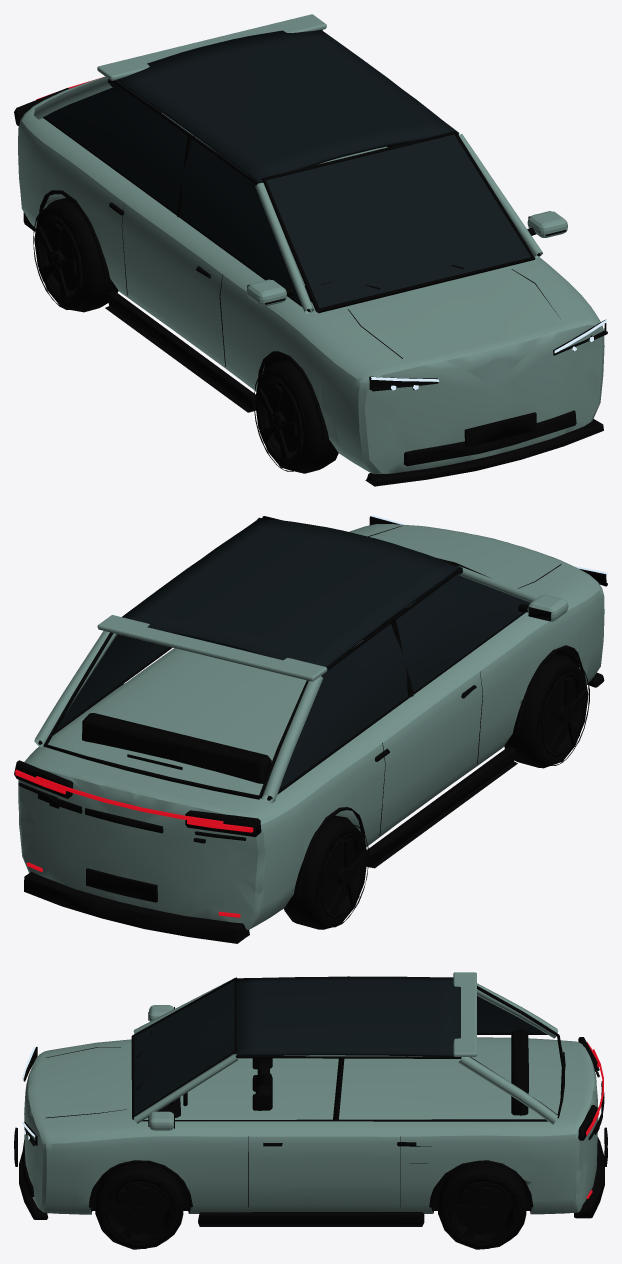
The model's file is emas-mid.glb.
3 renders of one model, top to bottom at view 1: azimuth 30°, elevation 25°; view 2: azimuth 150°, elevation 25°; view 3: azimuth 270°, elevation 25°, orthographic. The views are drawn at different scales.
Visible parts, largest first — view 1: chassis.001__Automotive clearcoat, chassis.001__Solar glass, chassis.001__Vehicle detail atlas, wheel_FL.001__Vehicle detail atlas, wheel_RL.001__Vehicle detail atlas; view 2: chassis.001__Automotive clearcoat, chassis.001__Solar glass, chassis.001__Vehicle detail atlas, wheel_RL.001__Vehicle detail atlas, wheel_FL.001__Vehicle detail atlas, chassis.001__Red LED optics; view 3: chassis.001__Automotive clearcoat, chassis.001__Solar glass, chassis.001__Vehicle detail atlas, wheel_RR.001__Vehicle detail atlas, wheel_FR.001__Vehicle detail atlas.
Boxes of the visible parts, x1,y1,x2,y2 form: chassis.001__Automotive clearcoat: [18, 14, 604, 473]; chassis.001__Solar glass: [46, 30, 530, 310]; chassis.001__Vehicle detail atlas: [14, 79, 606, 486]; wheel_FL.001__Vehicle detail atlas: [254, 359, 338, 473]; wheel_RL.001__Vehicle detail atlas: [33, 198, 118, 312]; chassis.001__Automotive clearcoat: [18, 517, 604, 929]; chassis.001__Solar glass: [56, 518, 530, 798]; chassis.001__Vehicle detail atlas: [14, 516, 606, 943]; wheel_RL.001__Vehicle detail atlas: [284, 815, 368, 929]; wheel_FL.001__Vehicle detail atlas: [504, 654, 589, 768]; chassis.001__Red LED optics: [15, 769, 253, 917]; chassis.001__Automotive clearcoat: [24, 972, 598, 1214]; chassis.001__Solar glass: [134, 976, 543, 1115]; chassis.001__Vehicle detail atlas: [14, 977, 607, 1226]; wheel_RR.001__Vehicle detail atlas: [438, 1162, 526, 1249]; wheel_FR.001__Vehicle detail atlas: [95, 1163, 183, 1249].
Size of the model in its own units: 2.22 by 1.69 by 4.76.
8 materials, 6 textured.
